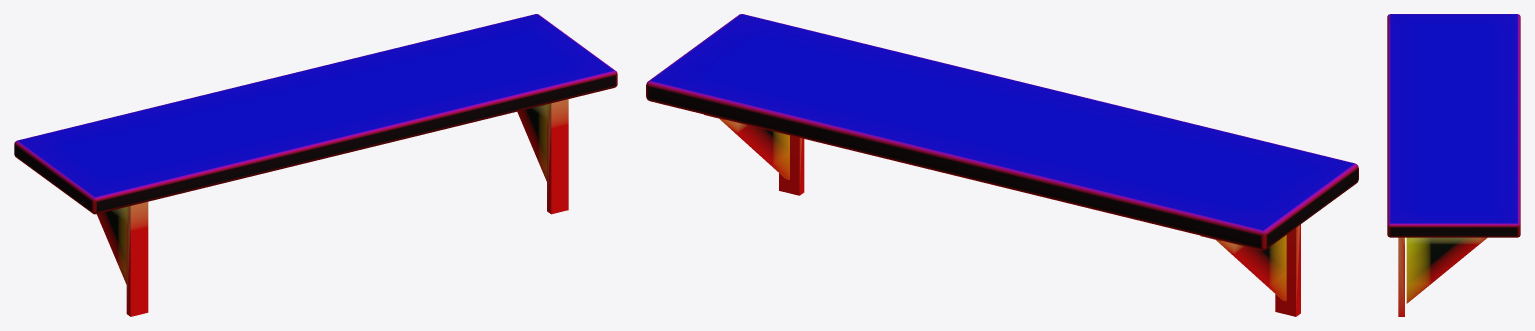
Rendered from prop_wall_shelf.fbx.
3 renders of one model, left to right at view 1: azimuth 30°, elevation 25°; view 2: azimuth 150°, elevation 25°; view 3: azimuth 270°, elevation 25°, orthographic. The views are drawn at different scales.
Visible parts, largest first — view 1: prop_wall_shelf; view 2: prop_wall_shelf; view 3: prop_wall_shelf.
Boxes of the visible parts, left/top/right/bottom form: prop_wall_shelf: left=14, top=14, right=617, bottom=316; prop_wall_shelf: left=646, top=14, right=1358, bottom=316; prop_wall_shelf: left=1387, top=14, right=1520, bottom=316.
Size of the model in its own units: 0.9 by 0.218 by 0.24.
